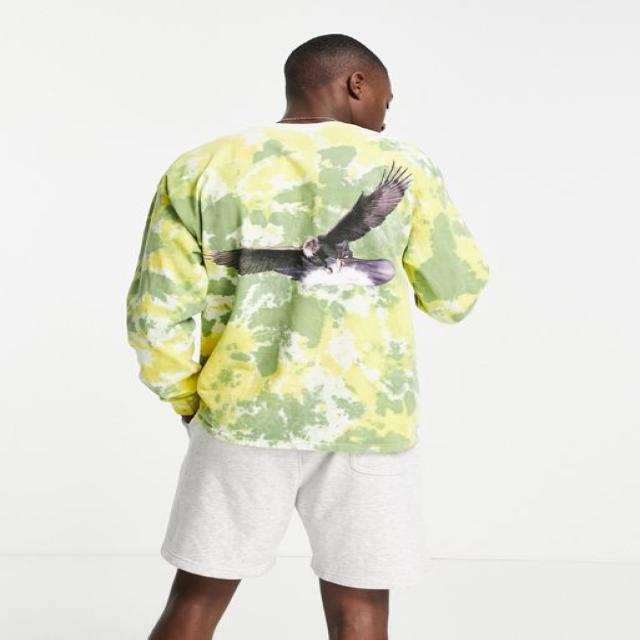tshirt: (123, 120, 490, 454)
